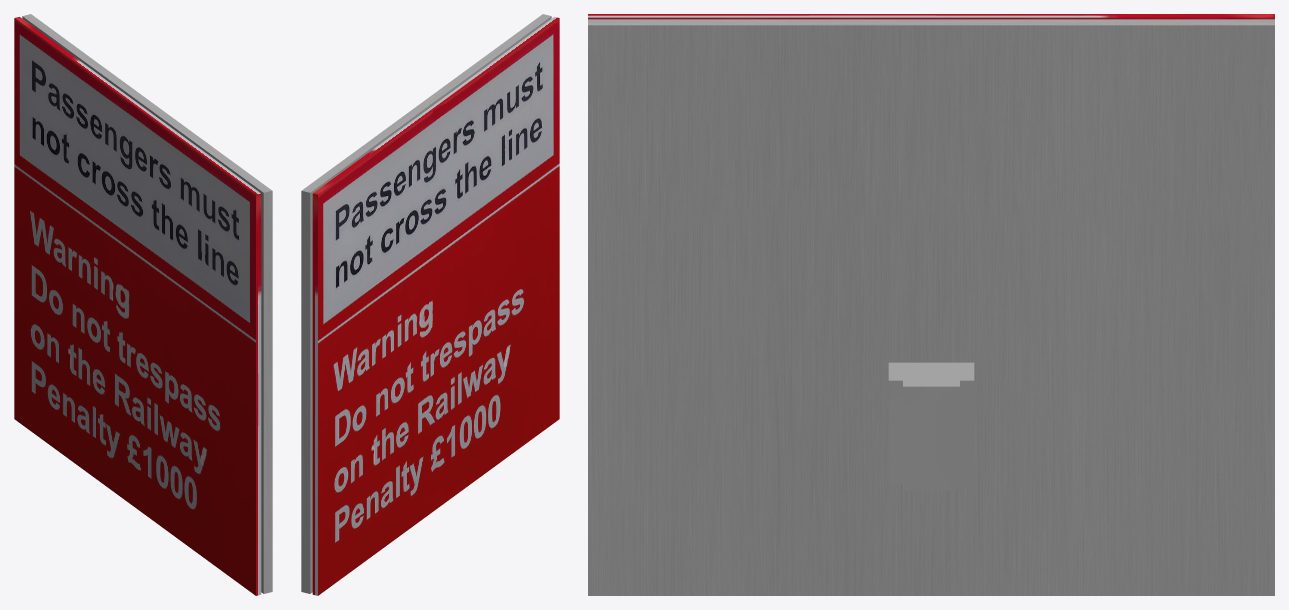
Rendered from passenger_do_not_cross_line.obj.
3 views of the same model, side by side, from view 1: azimuth 30°, elevation 25°; view 2: azimuth 150°, elevation 25°; view 3: azimuth 270°, elevation 25° (orthographic). The views are drawn at different scales.
Visible parts, largest first — view 1: cube; view 2: cube; view 3: cube.
Part boxes in pixels (left/top/right/bottom): cube: left=14, top=14, right=272, bottom=595; cube: left=301, top=14, right=559, bottom=595; cube: left=588, top=14, right=1274, bottom=595.
Bounding box in the file's own units: 0.0922 × 0.6875 × 0.75.
Materials: 2 (2 with a texture image).
